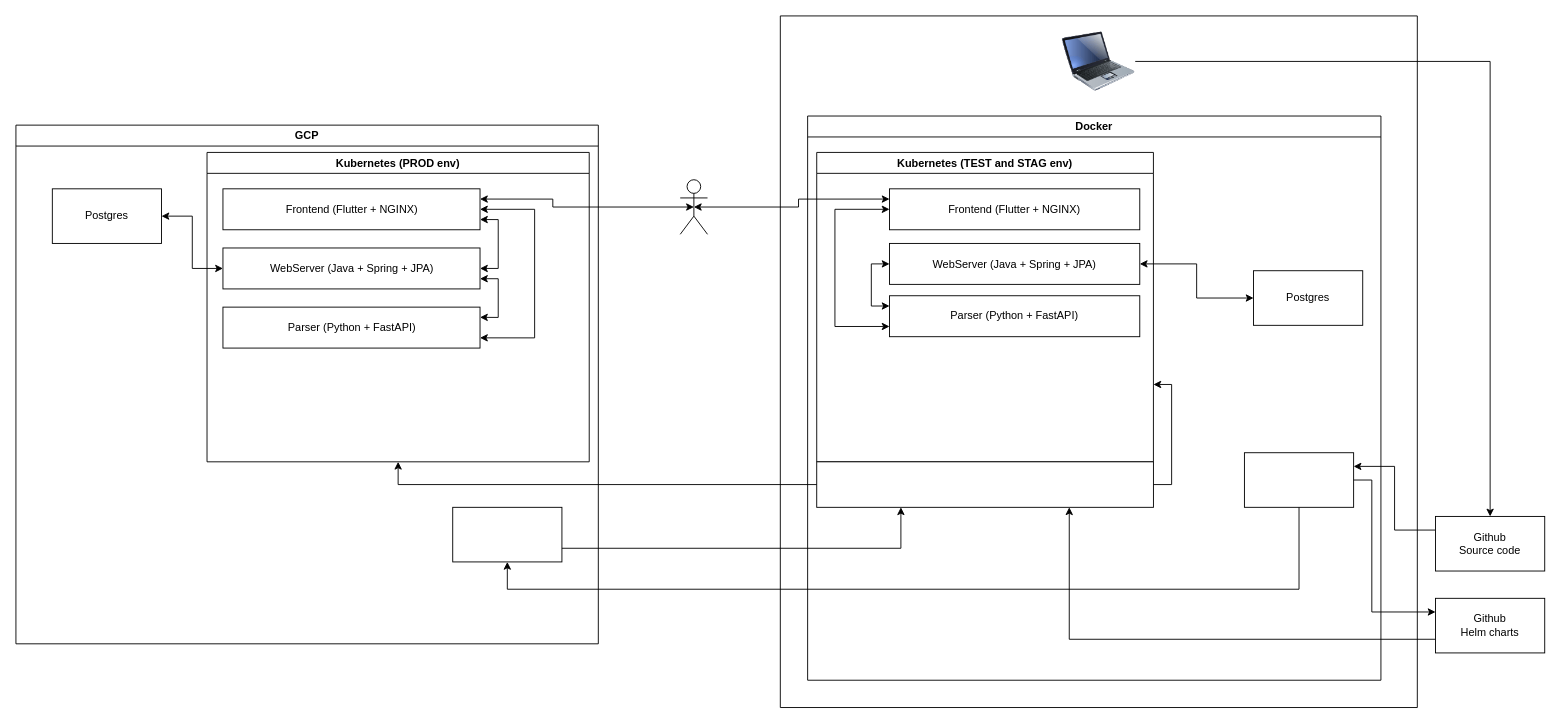
Some shapes in this 1561 by 723 pixel diagram are drawn without their labels. Each missing label, with the centre of its shape:
"AgroCD" belongs at (x=984, y=484).
"Docker Repo" belongs at (x=507, y=534).
"Jenkins" belongs at (x=1299, y=479).
"User" belongs at (x=693, y=206).
